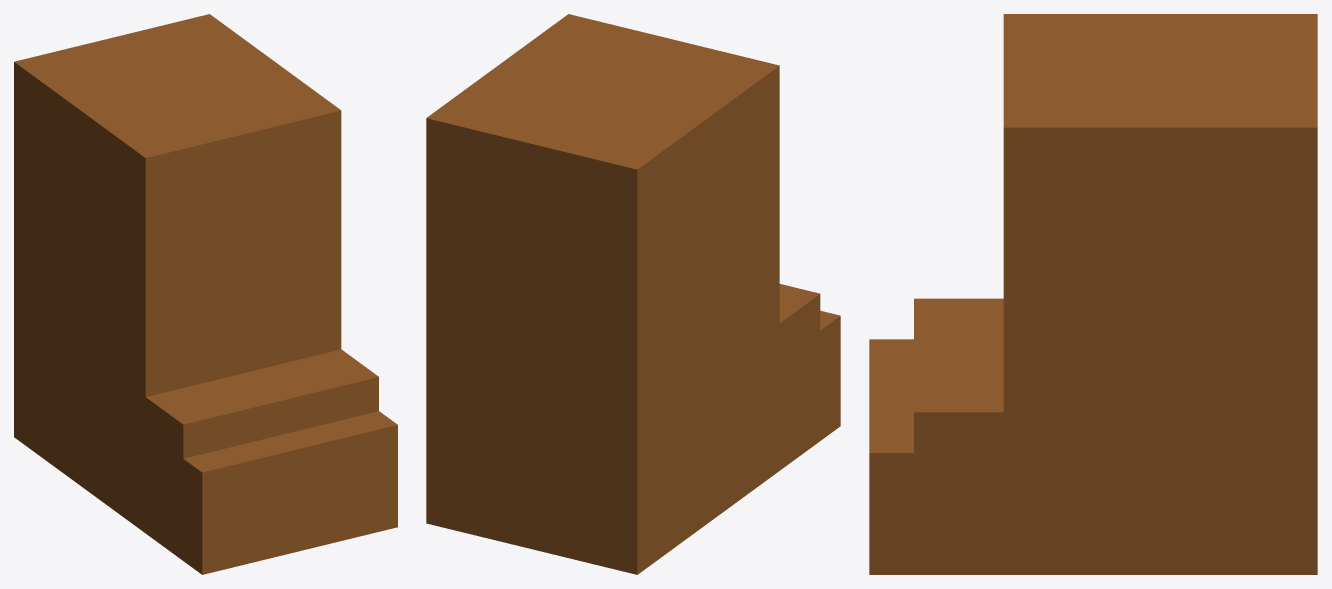
File: leg_right.glb
3 renders of one model, left to right at view 1: azimuth 30°, elevation 25°; view 2: azimuth 150°, elevation 25°; view 3: azimuth 270°, elevation 25°, orthographic. The views are drawn at different scales.
Visible parts, largest first — view 1: Node1; view 2: Node1; view 3: Node1.
Part boxes in pixels (x1,y1,x2,y2): Node1: [14, 14, 397, 574]; Node1: [426, 14, 840, 574]; Node1: [869, 14, 1317, 574].
Bounding box in the file's own units: 0.6 × 1.1 × 1.
1 material, 1 textured.
